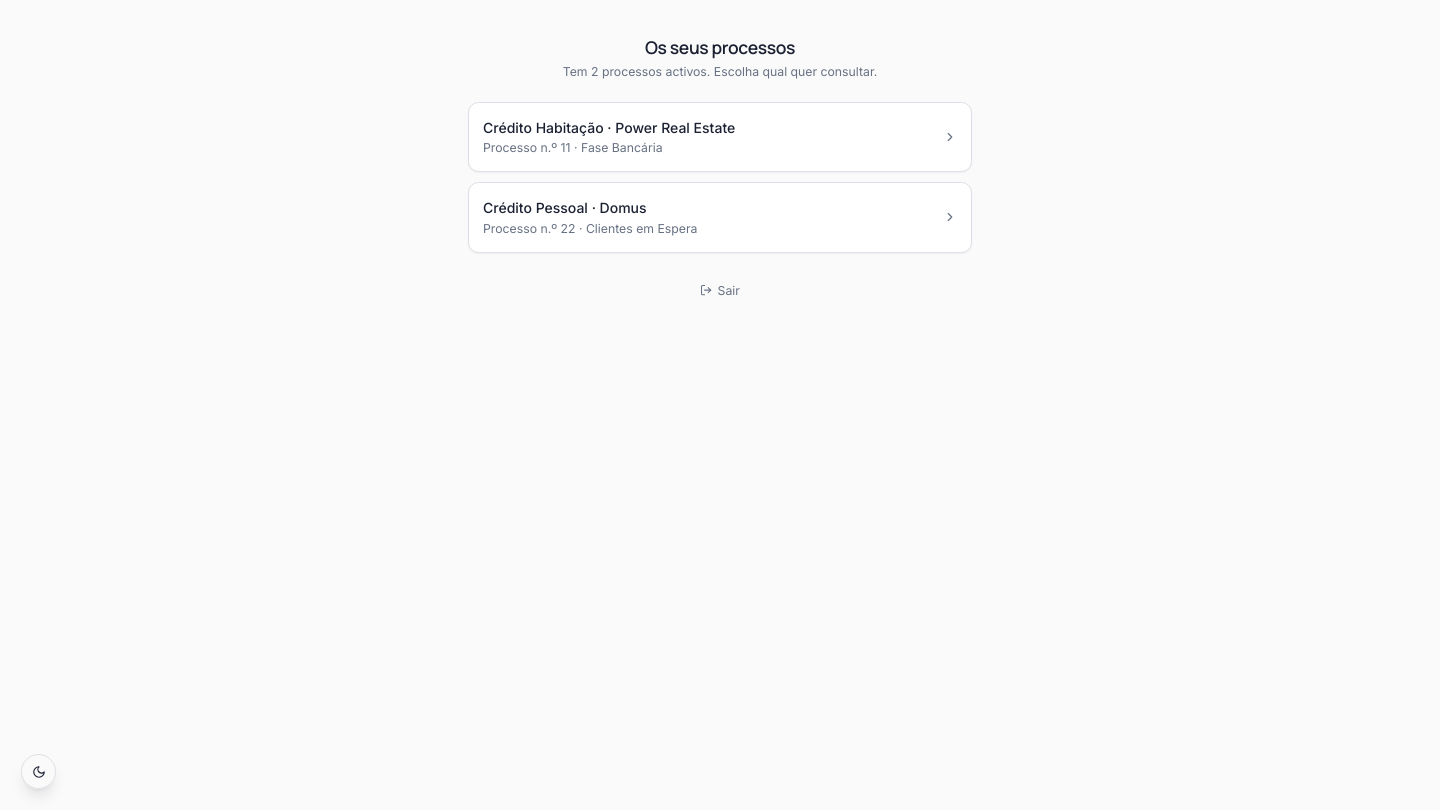
Test: o Hub antes de entrar num processo › escolher abre o Portal DESSE processo, com o token desse processo
This screenshot has width=1440, height=810.
Click the button "Crédito Pessoal · Domus Processo n.º 22 · Clientes em Espera": (565, 208) 468,182 -> 972,253
(page scrolled)
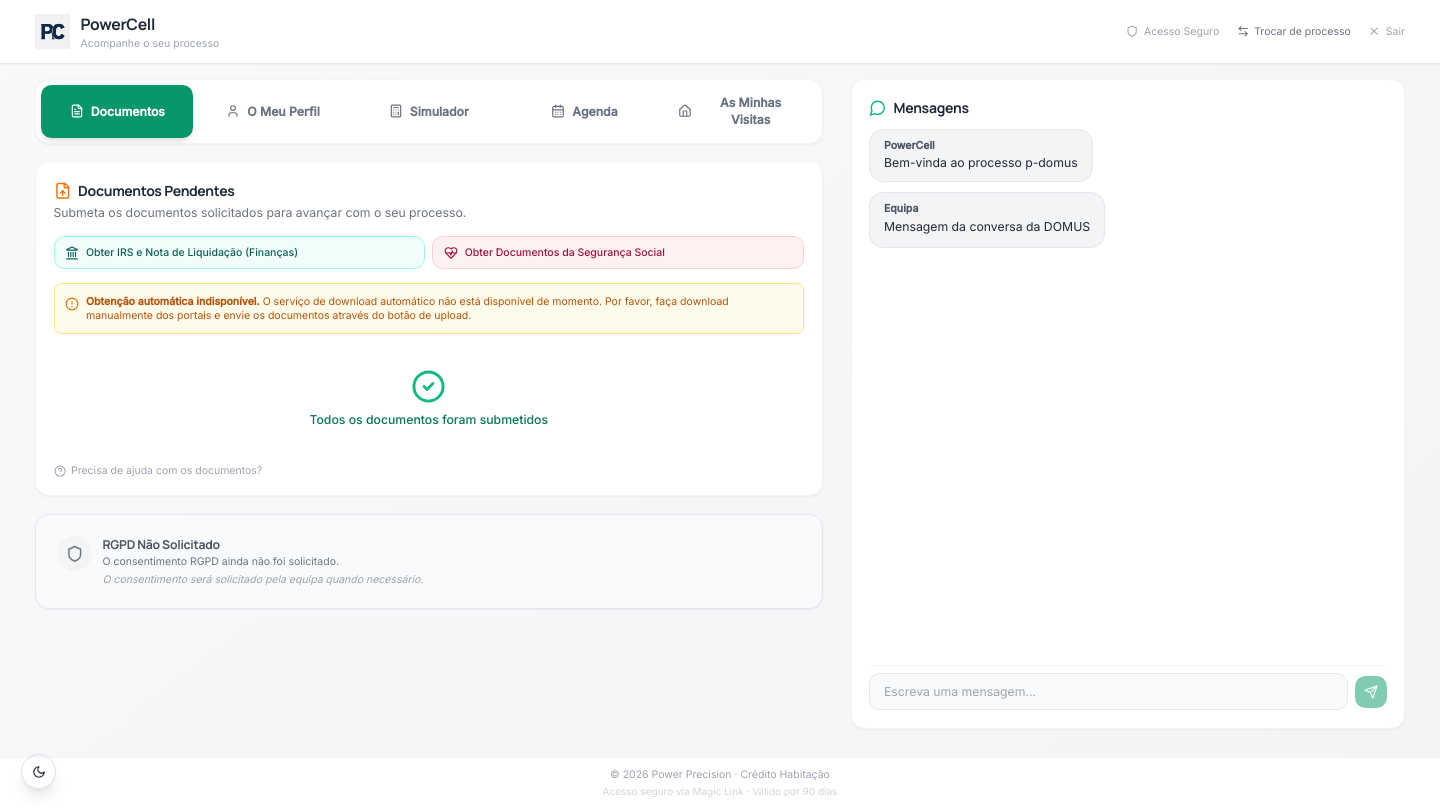
Now the text "Bem-vinda ao processo p-domus" is shown, box 884,154 -> 1078,172
Now the element with test id "portal-hub" is gone
